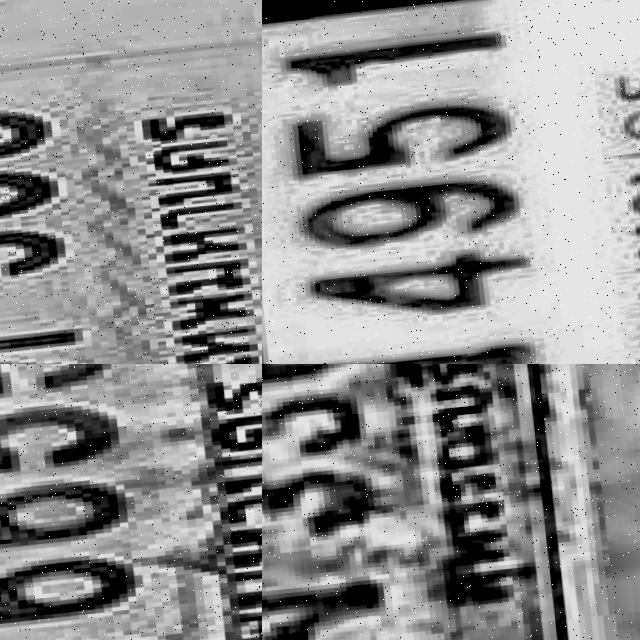license-plate: (262, 0, 640, 364), (0, 0, 262, 364), (262, 364, 593, 640), (0, 364, 262, 640)
